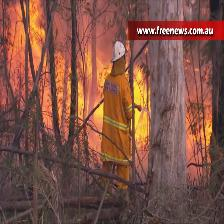fire: (46, 54, 102, 126), (8, 0, 44, 80), (129, 70, 156, 144)
